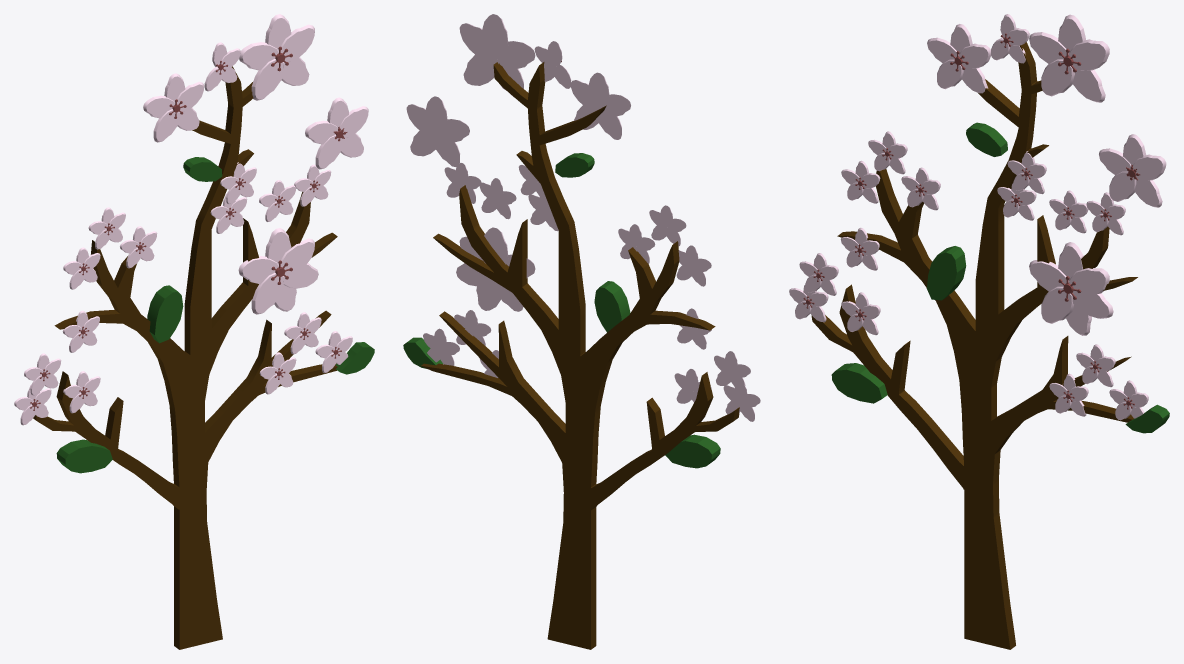
The model's file is Tree_03.fbx.
3 renders of one model, left to right at view 1: azimuth 30°, elevation 25°; view 2: azimuth 150°, elevation 25°; view 3: azimuth 330°, elevation 25°, orthographic. The views are drawn at different scales.
Parts seen in each view (by area): view 1: Trees0_5:tree_2; view 2: Trees0_5:tree_2; view 3: Trees0_5:tree_2.
Part boxes in pixels (bbox=[...]): Trees0_5:tree_2: bbox=[14, 14, 374, 649]; Trees0_5:tree_2: bbox=[403, 14, 760, 649]; Trees0_5:tree_2: bbox=[789, 14, 1169, 649].
Bounding box in the file's own units: 28.81 × 47.15 × 1.51.
